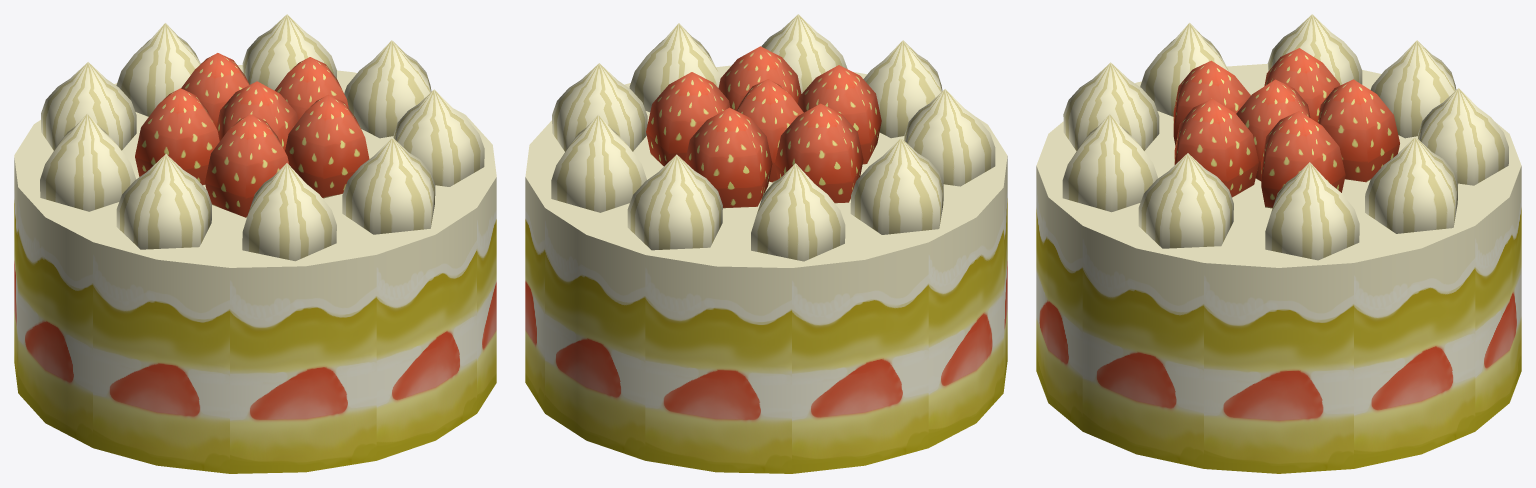
File: Cake.fbx
The picture shows the model from 3 angles, left to right: view 1: azimuth 30°, elevation 25°; view 2: azimuth 150°, elevation 25°; view 3: azimuth 270°, elevation 25°; orthographic projection.
Parts seen in each view (by area): view 1: whole, pSphere19, pSphere13, pSphere11, pSphere16, pSphere7, pSphere12, pSphere5, pSphere15, pSphere8, pSphere17, pSphere18 (+4 smaller); view 2: whole, pSphere18, pSphere16, pSphere17, pSphere6, pSphere14, pSphere8, pSphere19, pSphere15, pSphere3, pSphere11, pSphere5 (+4 smaller); view 3: whole, pSphere12, pSphere14, pSphere15, pSphere13, pSphere6, pSphere18, pSphere7, pSphere11, pSphere3, pSphere17, pSphere19 (+4 smaller).
Boxes of the visible parts, x1,y1,x2,y2 form: whole: (14,65,496,473); pSphere19: (116,154,211,249); pSphere13: (342,137,435,234); pSphere11: (242,163,336,261); pSphere16: (40,113,135,211); pSphere7: (285,94,369,198); pSphere12: (393,89,484,186); pSphere5: (205,114,288,217); pSphere15: (344,40,431,138); pSphere8: (135,88,219,185); pSphere17: (41,62,136,150); pSphere18: (116,23,200,116); whole: (525,65,1007,473); pSphere18: (627,154,722,250); pSphere16: (850,138,943,234); pSphere17: (751,163,845,261); pSphere6: (685,107,772,208); pSphere14: (551,114,646,212); pSphere8: (775,103,863,203); pSphere19: (904,89,995,186); pSphere15: (552,63,647,151); pSphere3: (646,72,730,166); pSphere11: (863,40,942,138); pSphere5: (797,65,881,164); whole: (1036,63,1521,473); pSphere12: (1138,153,1233,248); pSphere14: (1365,137,1457,233); pSphere15: (1265,162,1359,260); pSphere13: (1062,114,1158,212); pSphere6: (1317,79,1399,182); pSphere18: (1418,88,1508,185); pSphere7: (1174,98,1258,197); pSphere11: (1063,62,1159,151); pSphere3: (1261,111,1345,208); pSphere17: (1370,40,1456,138); pSphere19: (1140,22,1228,116).
Bounding box in the file's own units: 34.39 × 22.84 × 34.39.
